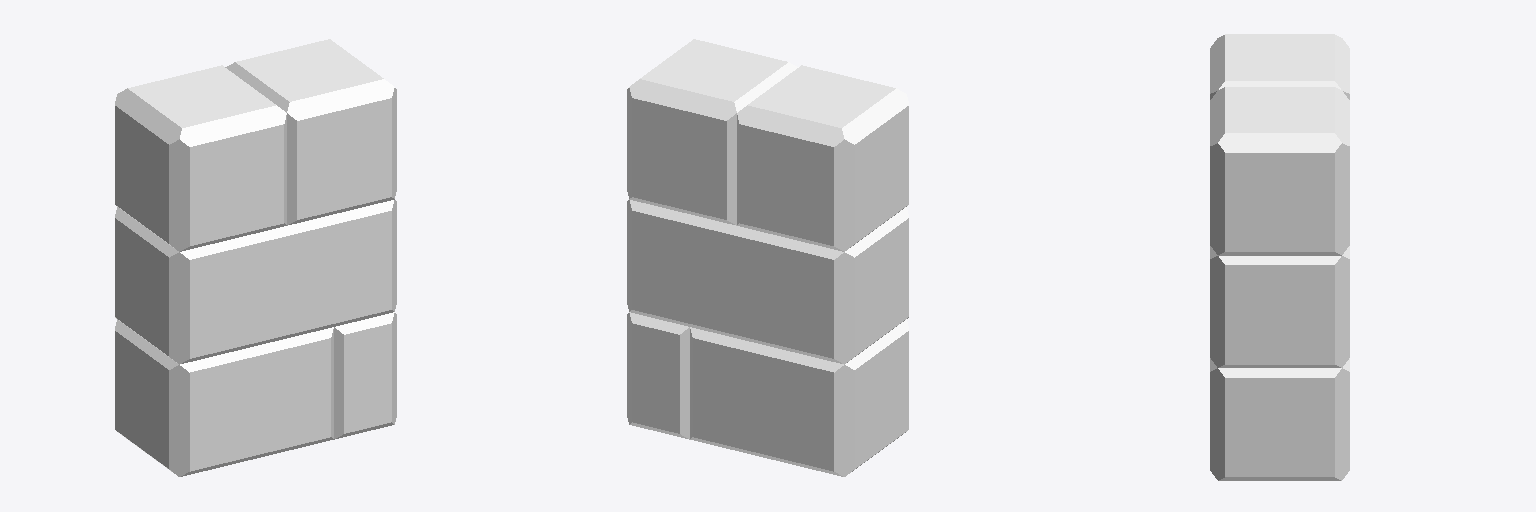
Rendered from Wall1_Half_H0.5.obj.
The picture shows the model from 3 angles: view 1: azimuth 30°, elevation 25°; view 2: azimuth 150°, elevation 25°; view 3: azimuth 270°, elevation 25°; orthographic projection.
Parts seen in each view (by area): view 1: Box003; view 2: Box003; view 3: Box003.
Boxes of the visible parts, box(x1,y1,x2,y2) form: Box003: box(115, 39, 396, 476); Box003: box(627, 39, 908, 476); Box003: box(1210, 34, 1349, 480).
Size of the model in its own units: 1.06 by 1.53 by 0.56.